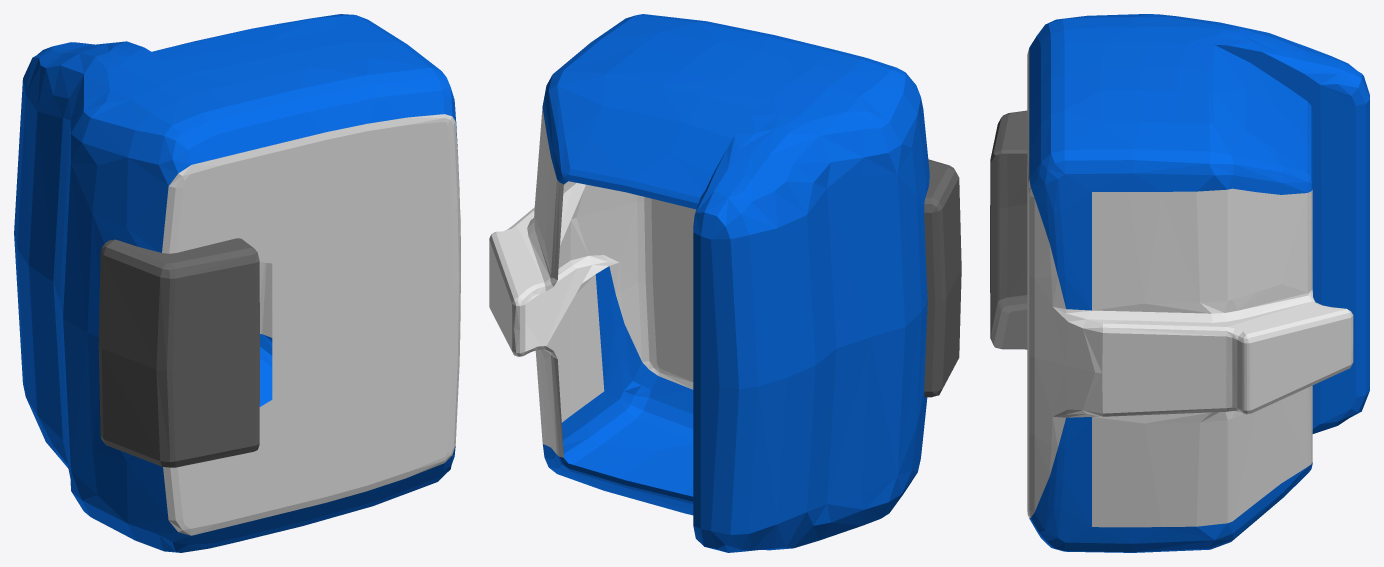
File: BODY_mesh.dae
3 views of the same model, side by side, from view 1: azimuth 30°, elevation 25°; view 2: azimuth 150°, elevation 25°; view 3: azimuth 270°, elevation 25° (orthographic). The views are drawn at different scales.
Visible parts, largest first — view 1: BODY (×3); view 2: BODY (×3); view 3: BODY (×3).
Boxes of the visible parts, bbox=[...] form: BODY (×3): bbox=[14, 14, 460, 552]; BODY (×3): bbox=[489, 14, 961, 552]; BODY (×3): bbox=[990, 14, 1369, 552].
Size of the model in its own units: 0.2971 by 0.3282 by 0.2653.
